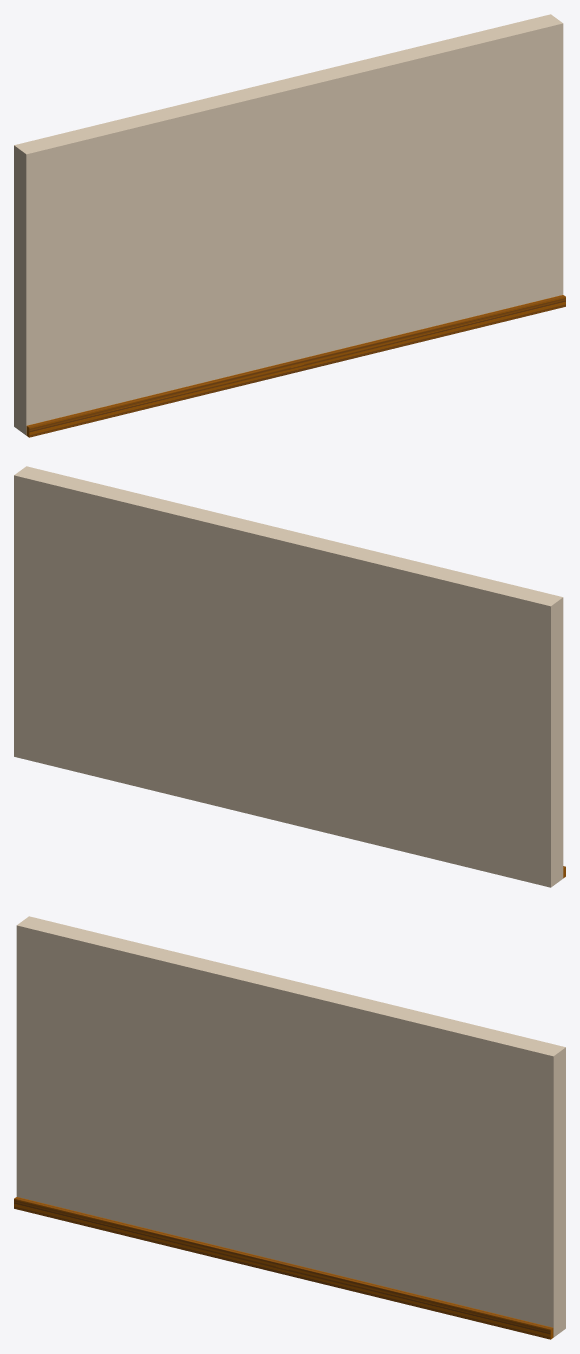
Rendered from Wall 1.glb.
The picture shows the model from 3 angles, top to bottom: view 1: azimuth 30°, elevation 25°; view 2: azimuth 150°, elevation 25°; view 3: azimuth 330°, elevation 25°; orthographic projection.
Visible parts, largest first — view 1: Cube; view 2: Cube; view 3: Cube.
Part boxes in pixels (box(x1,y1,x2,y2)): Cube: box(14, 14, 565, 437); Cube: box(14, 466, 565, 887); Cube: box(14, 916, 565, 1339).
Size of the model in its own units: 6.62 by 3.32 by 0.3236.
2 materials, 1 textured.
